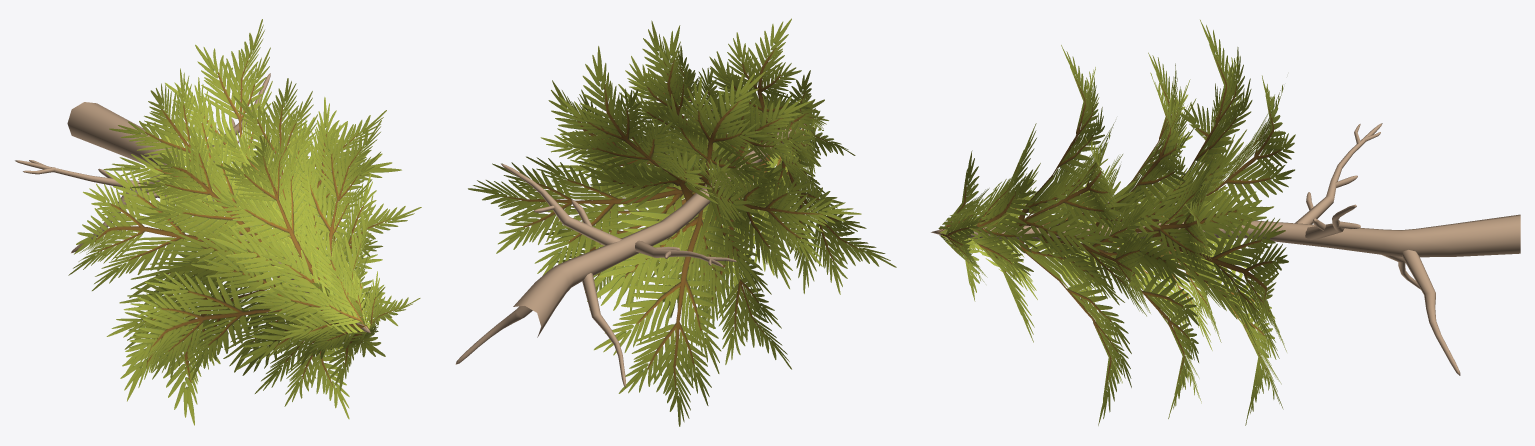
File: pine_02.glb
3 views of the same model, side by side, from view 1: azimuth 30°, elevation 25°; view 2: azimuth 150°, elevation 25°; view 3: azimuth 270°, elevation 25° (orthographic). The views are drawn at different scales.
Visible parts, largest first — view 1: PineTree_3; view 2: PineTree_3; view 3: PineTree_3.
Part boxes in pixels (x1,y1,x2,y2): PineTree_3: (15,19,421,425); PineTree_3: (455,18,896,426); PineTree_3: (931,20,1520,425).
Bounding box in the file's own units: 1.76 × 1.75 × 2.35.
2 materials, 1 textured.
